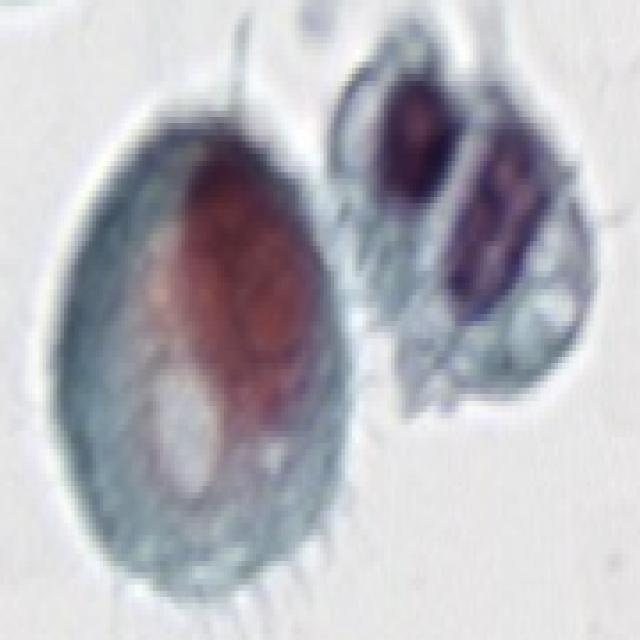cytoplasm: (0, 85, 392, 630)
nucleus: (159, 109, 347, 447), (418, 114, 576, 343), (356, 68, 479, 218)
